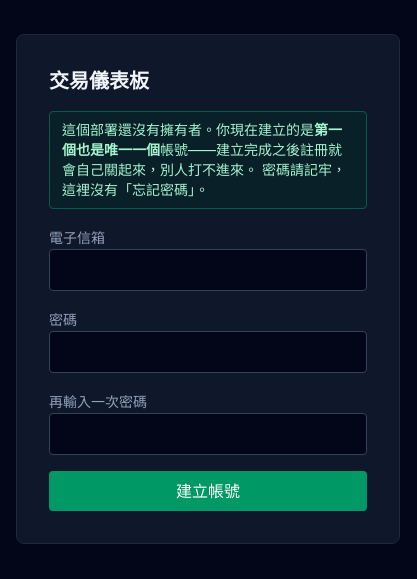
LoginPage：這個部署還沒有擁有者的時候 › 兩次密碼不一樣就不送出，因為打錯的密碼會鎖住整個部署
This screenshot has width=417, height=579.
Type "me@example.com" into the field labelled "電子信箱". click: {"x": 208, "y": 270}
box: [49,249,367,291]
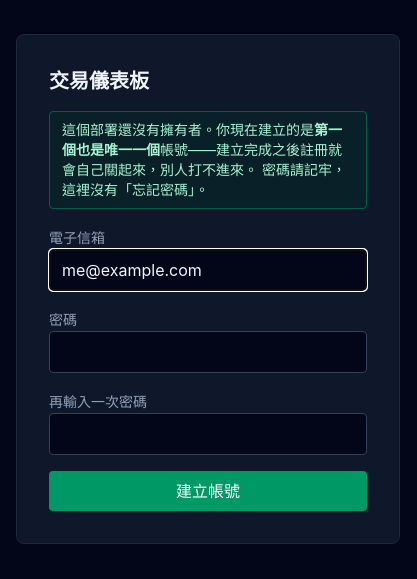
Type "correct-horse-battery" into the password field labelled "密碼". click: {"x": 208, "y": 352}
box: [49,331,367,373]
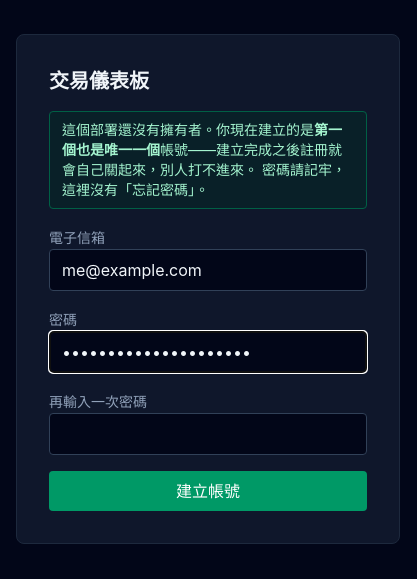
Type "correct-horse-batteru" into the password field labelled "再輸入一次密碼". click: {"x": 208, "y": 434}
box: [49,413,367,455]
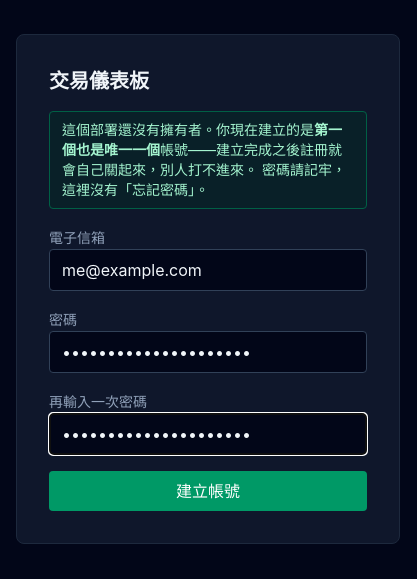
Click the button "建立帳號". click: {"x": 208, "y": 491}
box: [49,471,367,511]
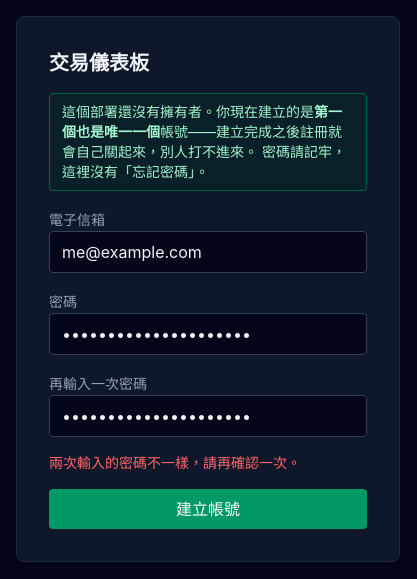
Check: the text "兩次輸入的密碼不一樣，請再確認一次。" is shown, box [49,454,301,471]
